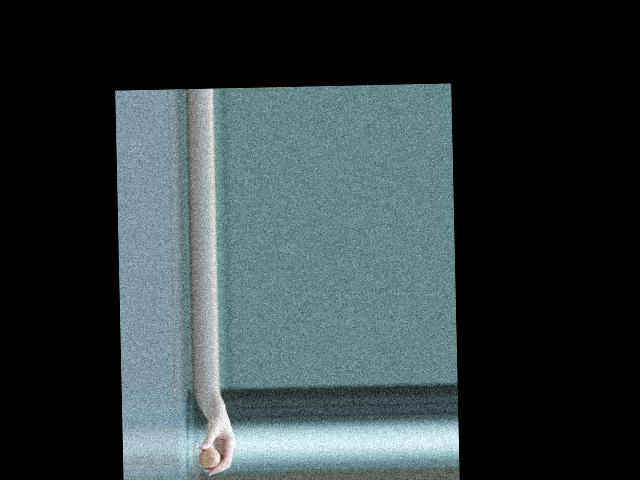egg: (198, 447, 220, 468)
